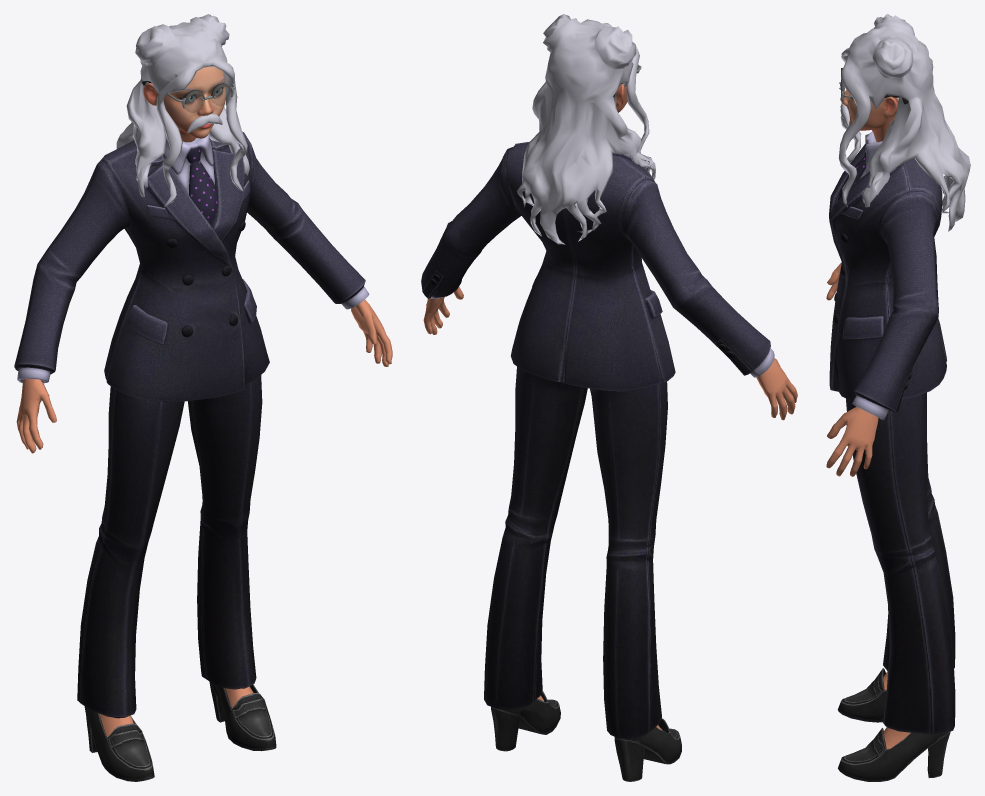
Rendered from ISUIZA.glb.
3 renders of one model, left to right at view 1: azimuth 30°, elevation 25°; view 2: azimuth 150°, elevation 25°; view 3: azimuth 270°, elevation 25°, orthographic.
Parts seen in each view (by area): view 1: Wolf3D_Outfit_Top, Wolf3D_Outfit_Bottom, Wolf3D_Hair, Wolf3D_Outfit_Footwear, Wolf3D_Body, Wolf3D_Head, Wolf3D_Glasses; view 2: Wolf3D_Outfit_Top, Wolf3D_Outfit_Bottom, Wolf3D_Hair, Wolf3D_Outfit_Footwear, Wolf3D_Body; view 3: Wolf3D_Outfit_Top, Wolf3D_Outfit_Bottom, Wolf3D_Hair, Wolf3D_Outfit_Footwear, Wolf3D_Body, Wolf3D_Head.
Boxes of the visible parts, box(x1,y1,x2,y2) form: Wolf3D_Outfit_Top: box(14, 131, 369, 401); Wolf3D_Outfit_Bottom: box(77, 375, 262, 718); Wolf3D_Hair: box(116, 14, 249, 207); Wolf3D_Outfit_Footwear: box(84, 681, 276, 781); Wolf3D_Body: box(16, 299, 392, 736); Wolf3D_Head: box(143, 66, 225, 142); Wolf3D_Glasses: box(142, 81, 235, 112); Wolf3D_Outfit_Top: box(421, 142, 774, 391); Wolf3D_Outfit_Bottom: box(484, 367, 667, 739); Wolf3D_Hair: box(516, 14, 655, 244); Wolf3D_Outfit_Footwear: box(491, 691, 681, 781); Wolf3D_Body: box(423, 287, 797, 730); Wolf3D_Outfit_Top: box(829, 131, 946, 420); Wolf3D_Outfit_Bottom: box(846, 392, 955, 734); Wolf3D_Hair: box(839, 14, 970, 231); Wolf3D_Outfit_Footwear: box(837, 668, 950, 781); Wolf3D_Body: box(826, 262, 910, 749); Wolf3D_Head: box(840, 89, 898, 142).
Size of the model in its own units: 0.9279 by 1.77 by 0.3234.
10 materials, 10 textured.
